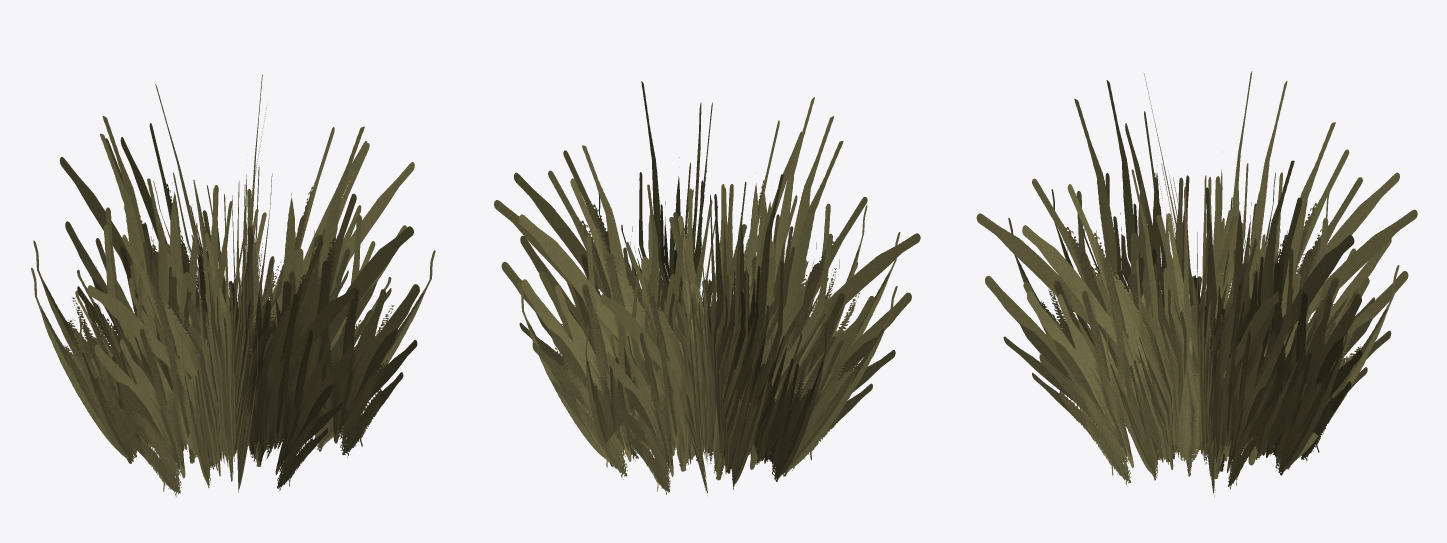
The model's file is shared_yellow_grass_04.fbx.
3 views of the same model, side by side, from view 1: azimuth 30°, elevation 25°; view 2: azimuth 150°, elevation 25°; view 3: azimuth 270°, elevation 25° (orthographic). The views are drawn at different scales.
Visible parts, largest first — view 1: shared_yellow_grass_04; view 2: shared_yellow_grass_04; view 3: shared_yellow_grass_04.
Part boxes in pixels (x1=…): shared_yellow_grass_04: x1=31, y1=74, x2=435, y2=496; shared_yellow_grass_04: x1=494, y1=81, x2=920, y2=495; shared_yellow_grass_04: x1=976, y1=71, x2=1417, y2=497.
Size of the model in its own units: 0.8745 by 0.8275 by 0.897.
